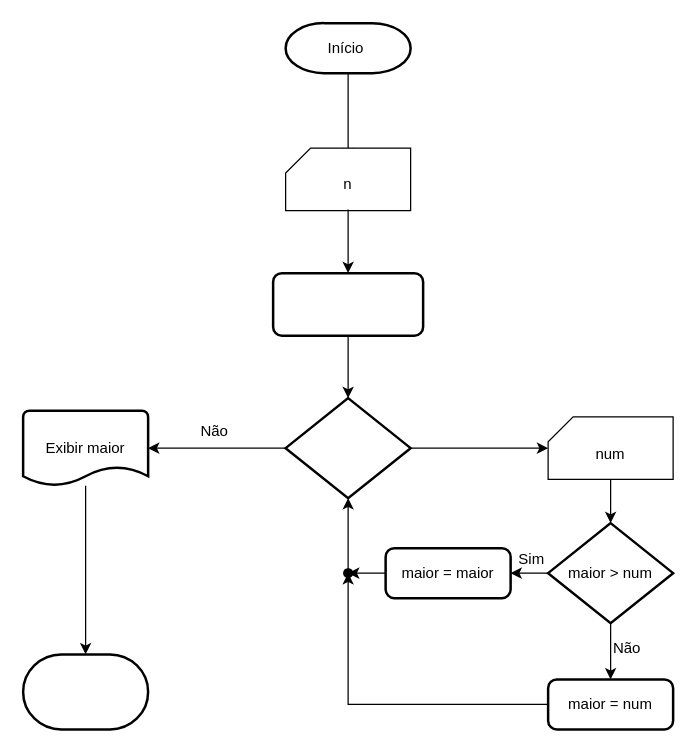
This 695x751 diagram has some shape labels left out. Here are the shapes that lost their labels. From the top down, the centre of each, then its label:
the point at 347,303: i = n maior = 0
the point at 347,447: i > 0
the point at 85,691: Fim
